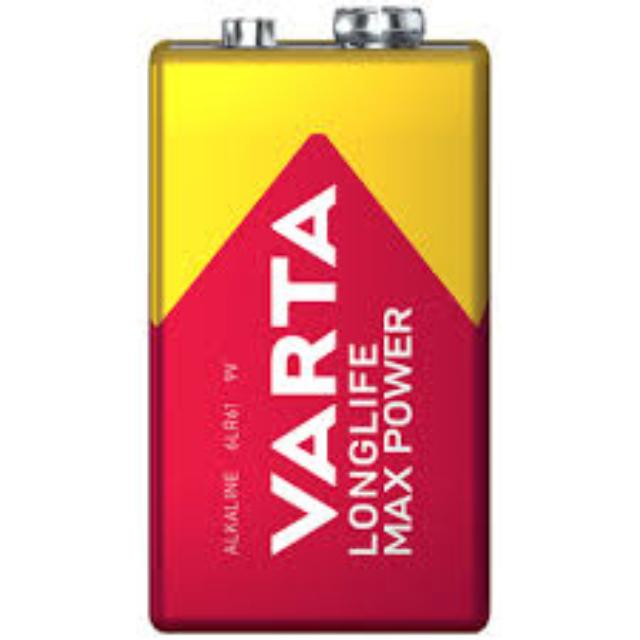Battery: (148, 6, 489, 637)
